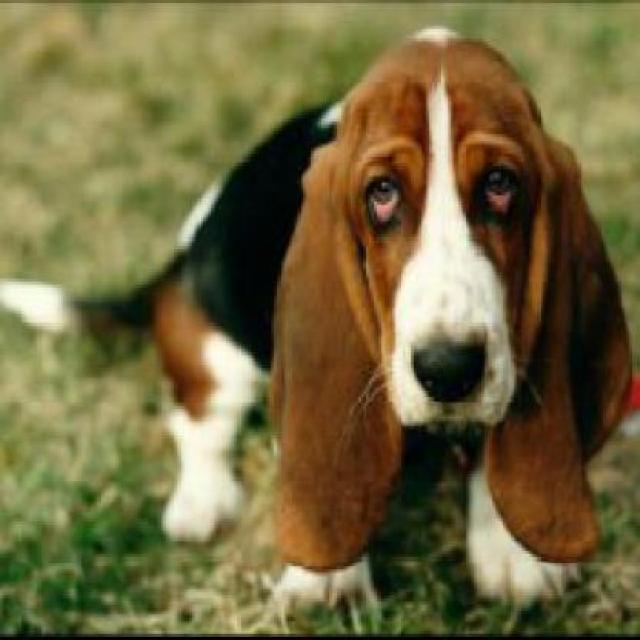Dog: (0, 23, 635, 623)
